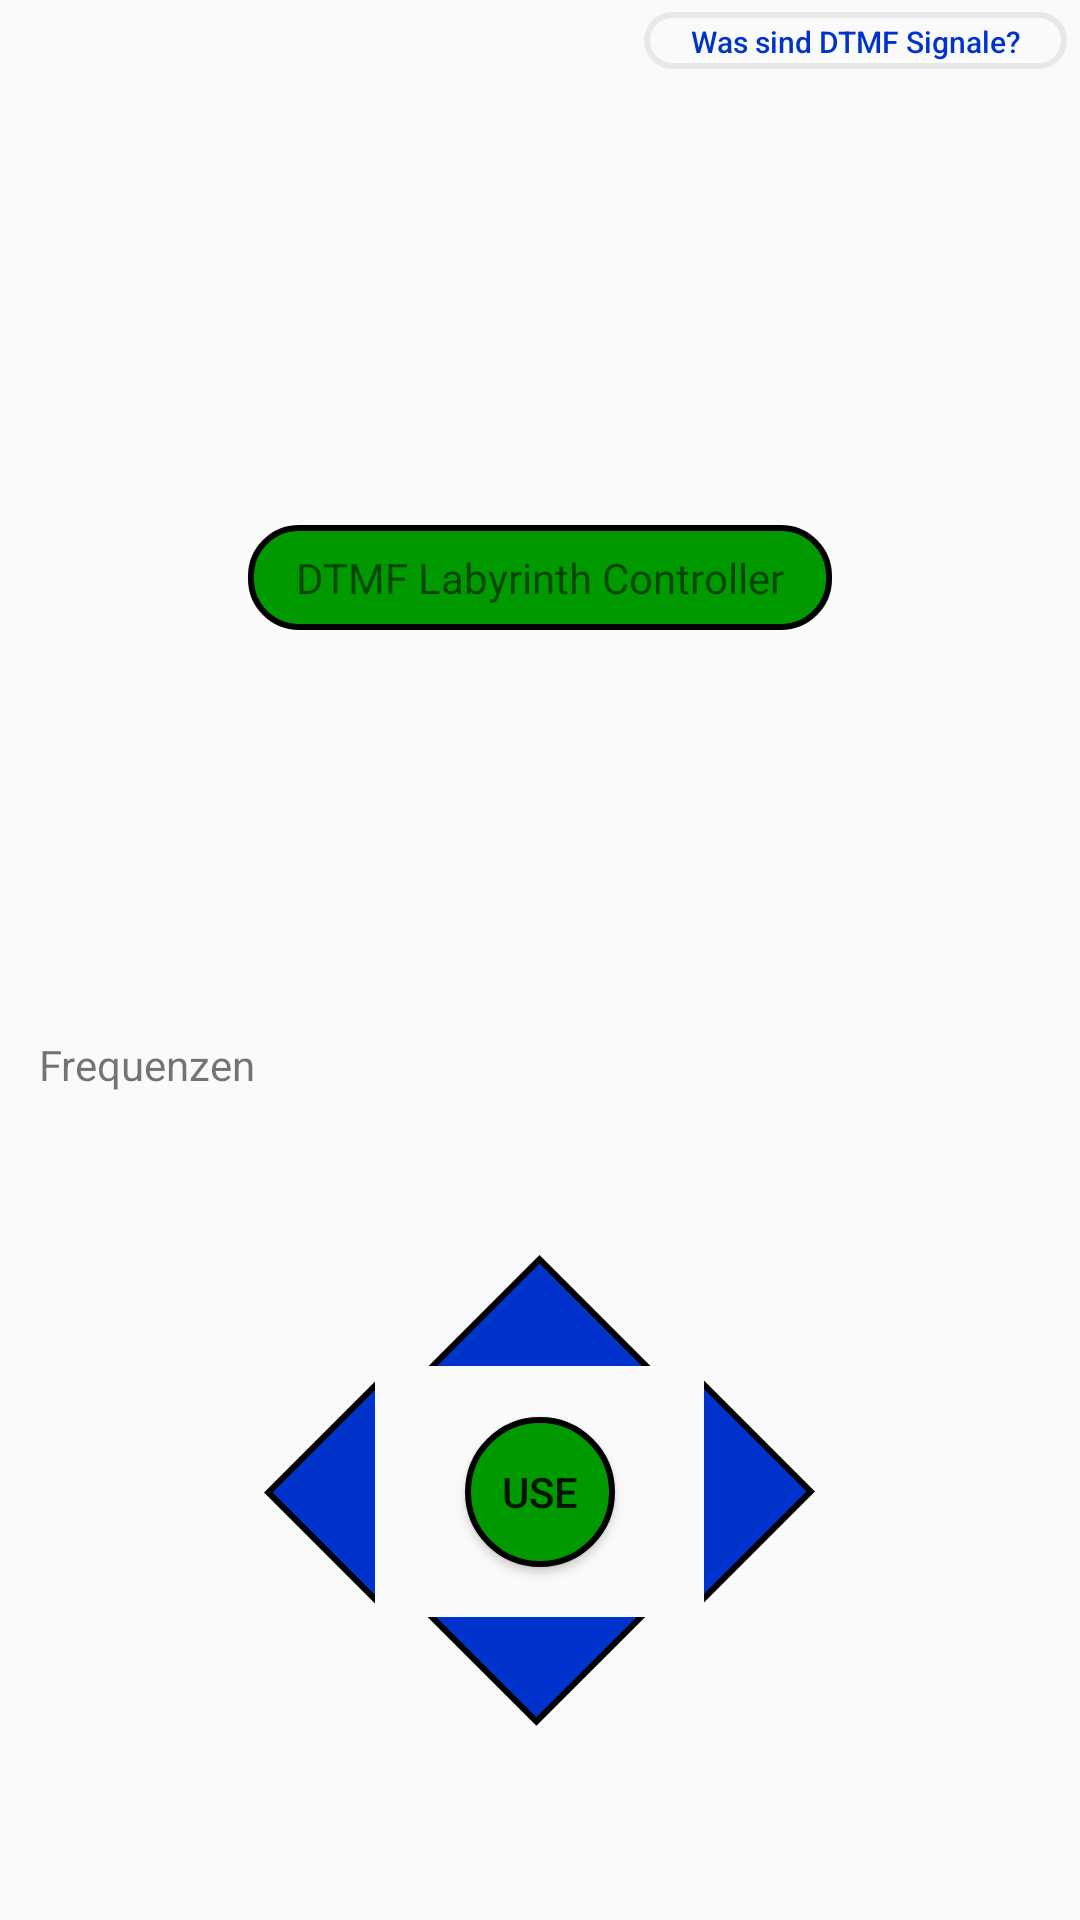

Icon bounding boxes for this 1080w x 1920h phone screenshot, format bbox(x1, y1, x2, y2):
down arrow: bbox(427, 1617, 645, 1726)
left arrow: bbox(264, 1381, 375, 1604)
right arrow: bbox(704, 1380, 815, 1603)
up arrow: bbox(429, 1255, 651, 1366)
